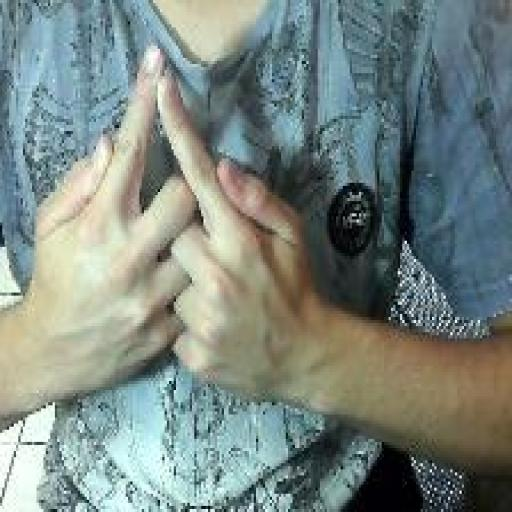Uma -horse-: (31, 40, 312, 408)
